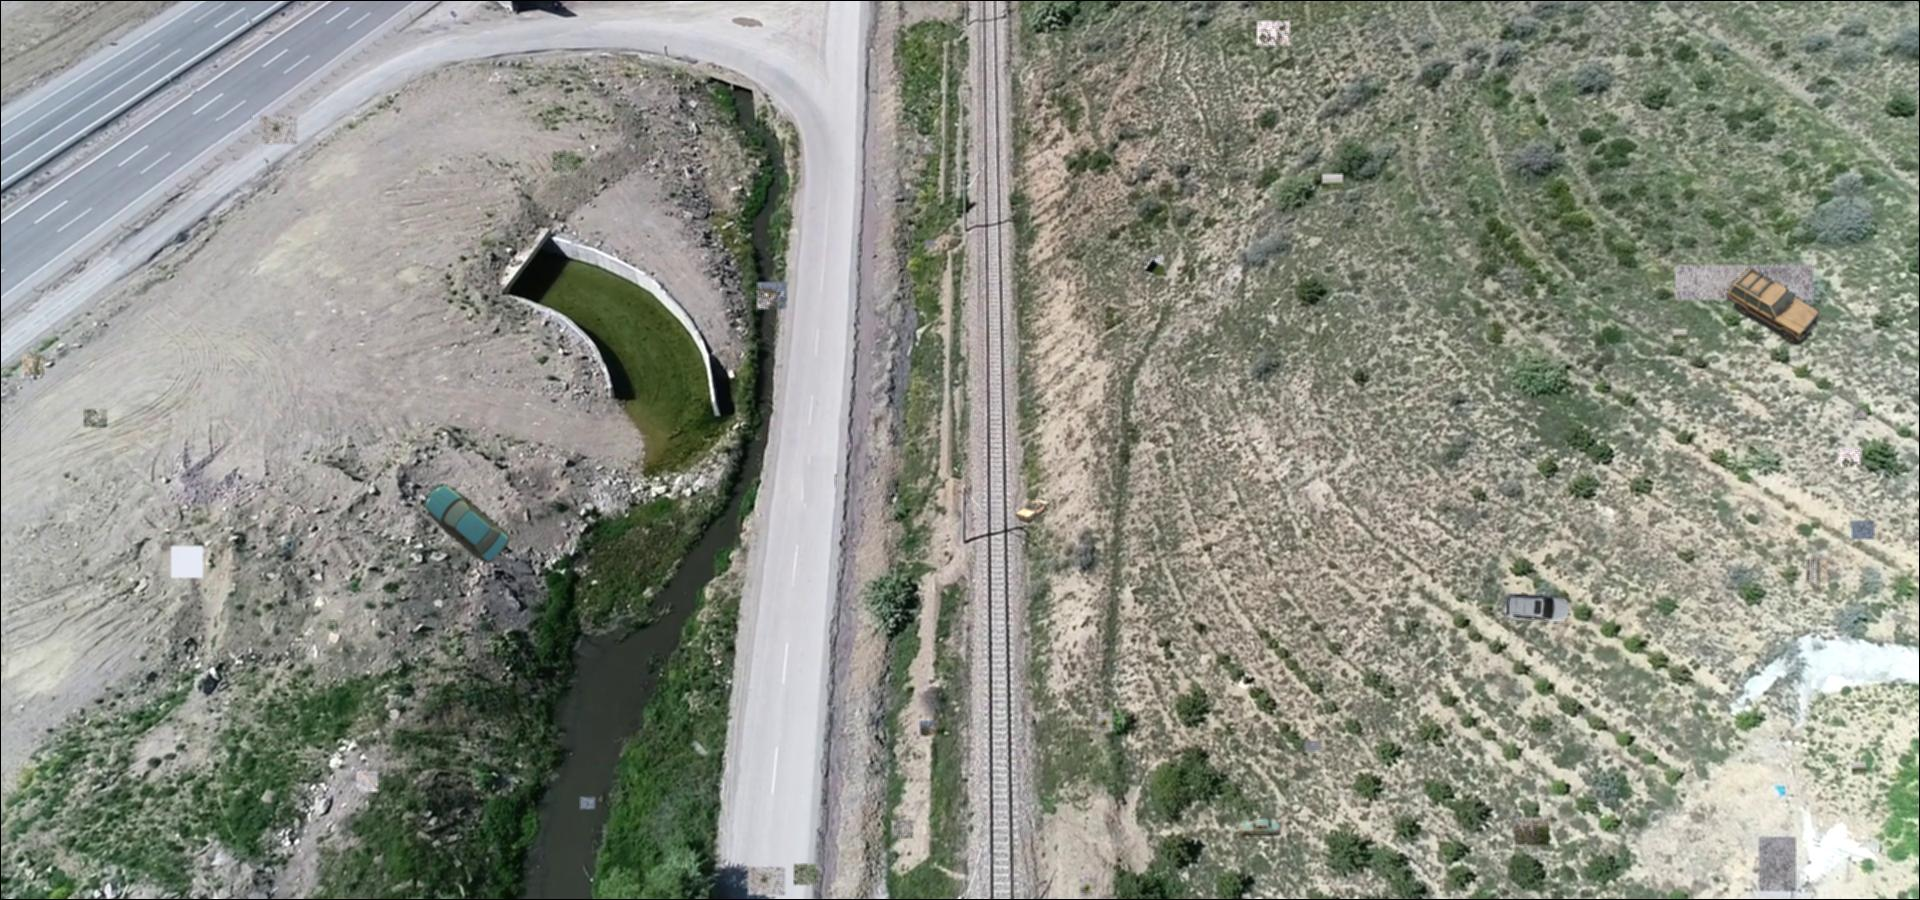arac: (1727, 264, 1823, 347), (421, 481, 509, 564), (1502, 593, 1571, 624), (1015, 498, 1051, 524), (1238, 818, 1281, 836)
